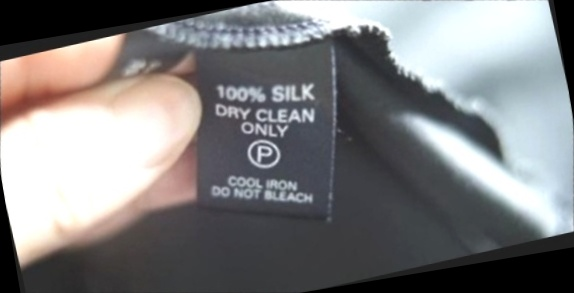dry_clean_any_solvent_except_trichloroethylene: (237, 126, 293, 180)
